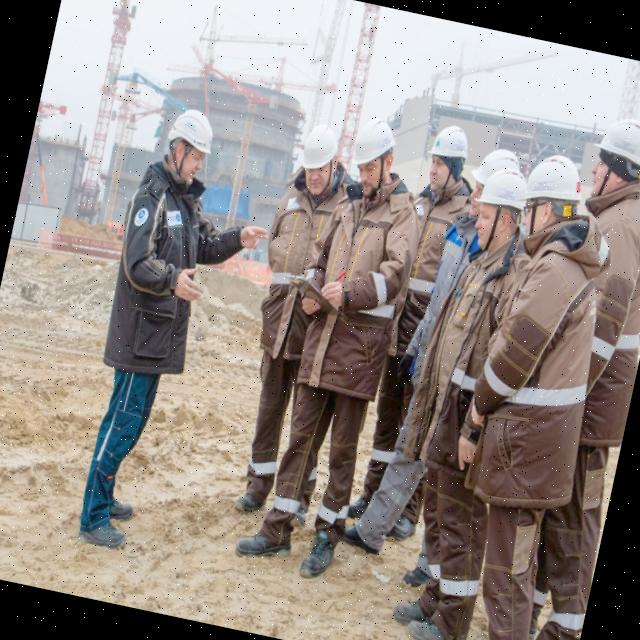Helmet: (522, 150, 590, 214), (590, 113, 640, 173), (475, 166, 531, 219), (350, 116, 401, 174), (299, 121, 347, 181), (167, 107, 221, 159), (466, 147, 520, 198), (425, 122, 475, 170)
NoJacket: (472, 235, 612, 509), (109, 158, 216, 365), (307, 183, 409, 384), (422, 233, 513, 450), (565, 209, 640, 437), (259, 184, 339, 349), (393, 194, 454, 342)
